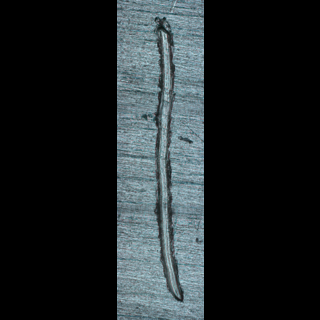d: (146, 13, 186, 303)
